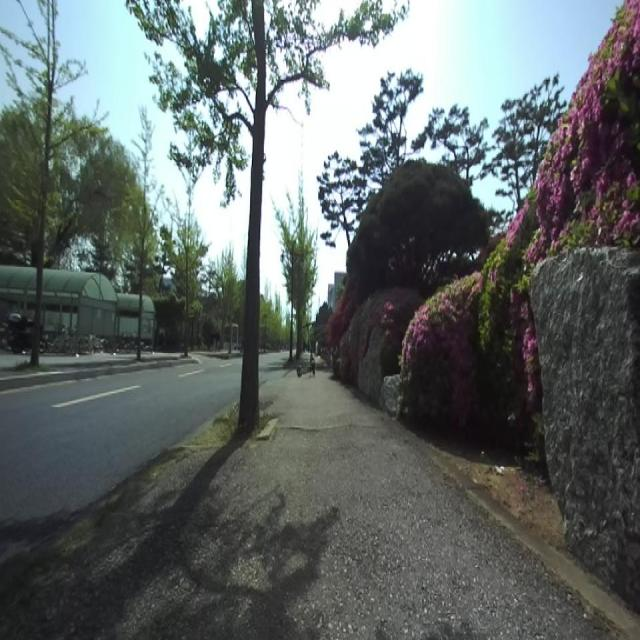sidewalk: (0, 371, 613, 639), (40, 353, 135, 370), (0, 355, 28, 372), (142, 354, 178, 361)
